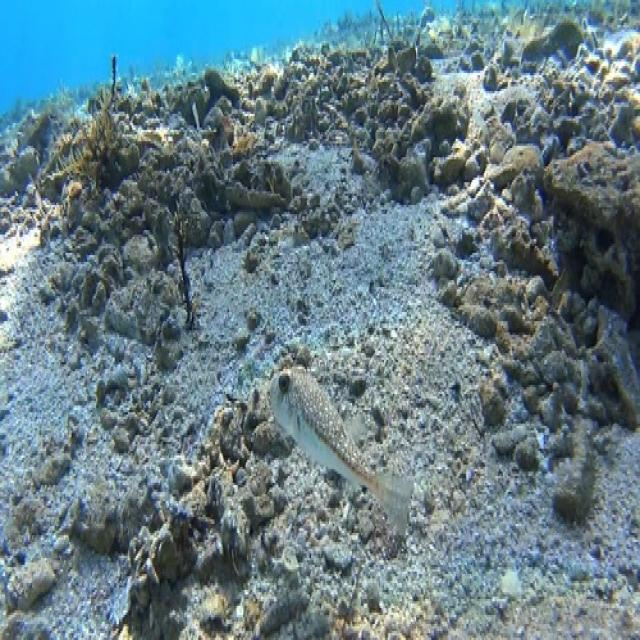Balik: (271, 367, 413, 535)
